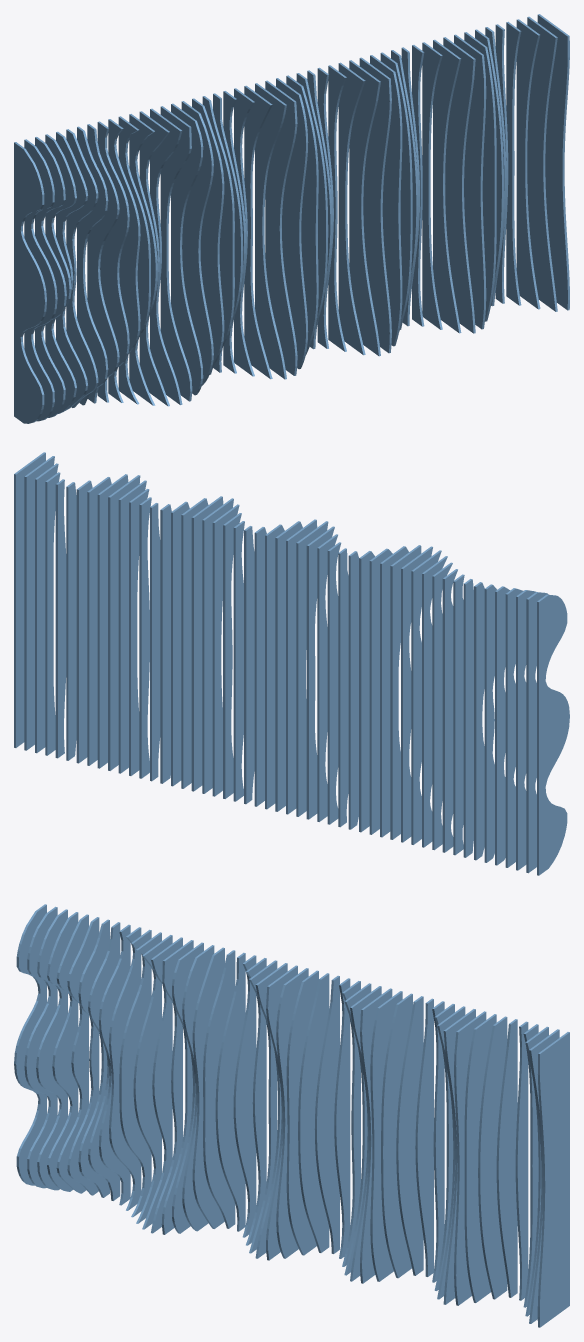
File: mod500-250-0-50.glb
The picture shows the model from 3 angles, top to bottom: view 1: azimuth 30°, elevation 25°; view 2: azimuth 150°, elevation 25°; view 3: azimuth 330°, elevation 25°; orthographic projection.
Parts seen in each view (by area): view 1: no_transformations; view 2: no_transformations; view 3: no_transformations.
Part boxes in pixels (x1=…): no_transformations: x1=14, y1=14, x2=569, y2=423; no_transformations: x1=14, y1=452, x2=569, y2=875; no_transformations: x1=14, y1=904, x2=569, y2=1327.
Size of the model in its own units: 502 by 250 by 51.35.
